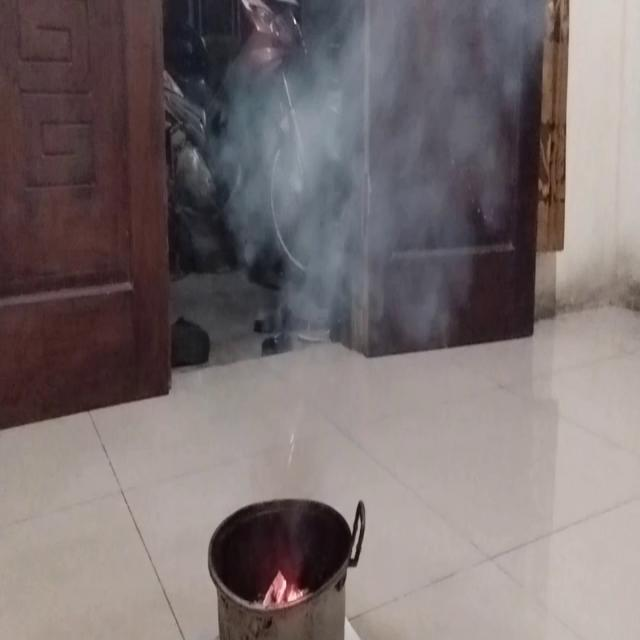fire: (253, 0, 450, 369)
